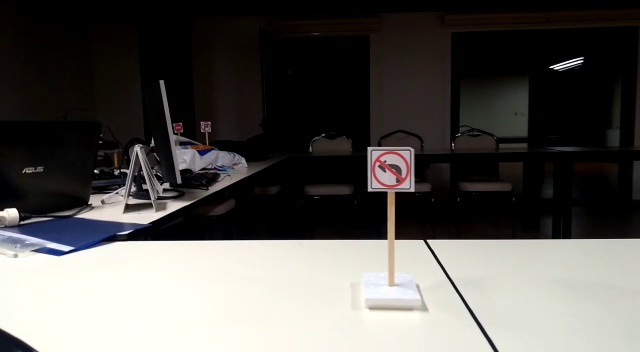sola_donulmez: (370, 149, 416, 190)
